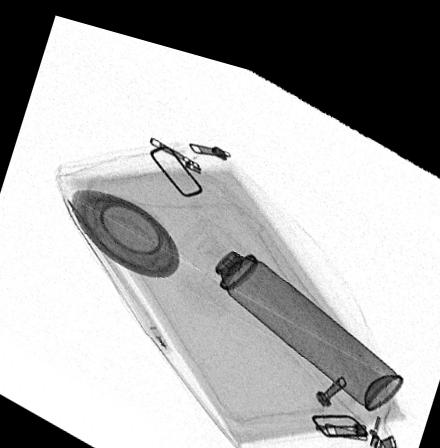Sprayer: (178, 206, 405, 390)
